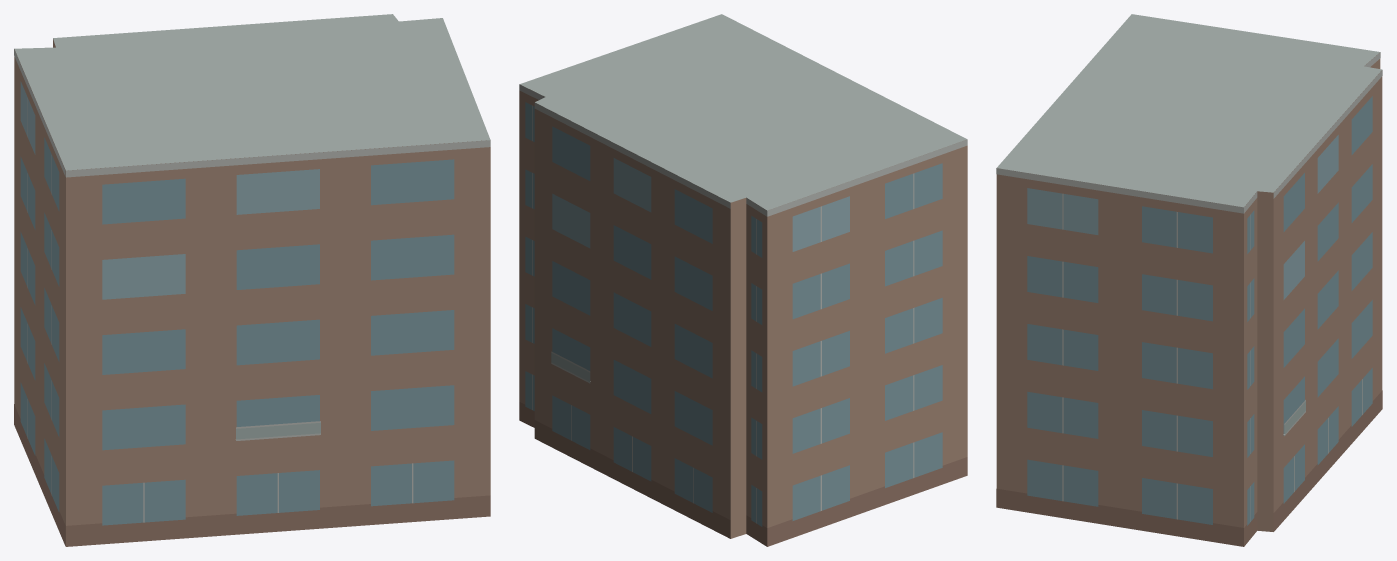
The model's file is survey-upis-32874362.glb.
3 views of the same model, side by side, from view 1: azimuth 30°, elevation 25°; view 2: azimuth 150°, elevation 25°; view 3: azimuth 270°, elevation 25° (orthographic). The views are drawn at different scales.
Parts seen in each view (by area): view 1: survey-upis-32874362.tmp; view 2: survey-upis-32874362.tmp; view 3: survey-upis-32874362.tmp.
Part boxes in pixels (box(x1,y1,x2,y2)): survey-upis-32874362.tmp: box(14, 14, 490, 546); survey-upis-32874362.tmp: box(519, 14, 967, 546); survey-upis-32874362.tmp: box(996, 14, 1382, 546).
Bounding box in the file's own units: 16.13 × 13.2 × 13.61.
